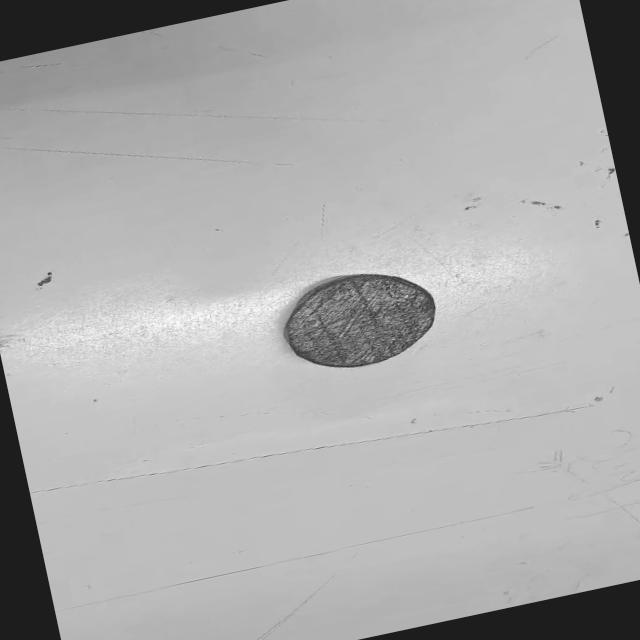bcircle: (273, 258, 449, 382)
